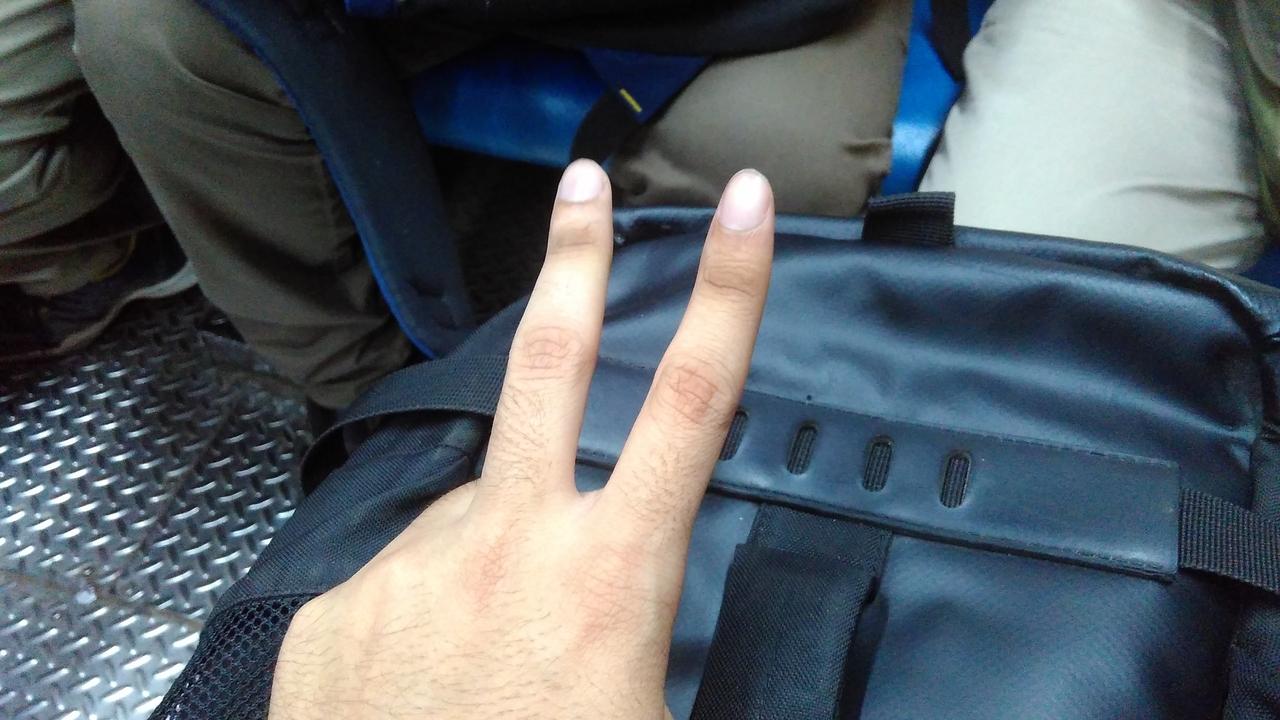fingertip: (710, 162, 782, 236), (546, 150, 618, 222)
